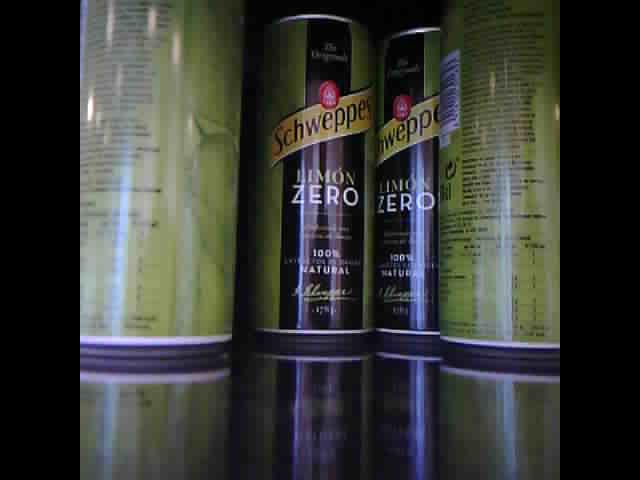schweppes: (80, 5, 244, 357), (436, 1, 559, 355), (255, 5, 374, 346), (373, 12, 441, 345)
